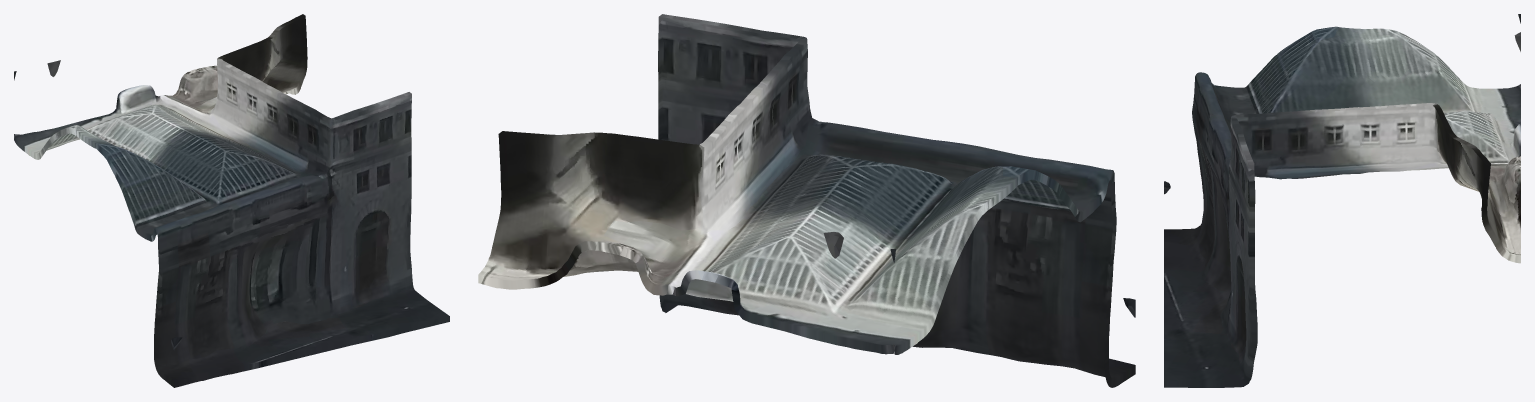
Rendered from z20-167769-405238-h0-yup-uvflip-v3-world.glb.
The picture shows the model from 3 angles, left to right: view 1: azimuth 30°, elevation 25°; view 2: azimuth 150°, elevation 25°; view 3: azimuth 270°, elevation 25°; orthographic projection. The views are drawn at different scales.
Size of the model in its own units: 30.16 by 21 by 30.32.
1 material, 1 textured.
